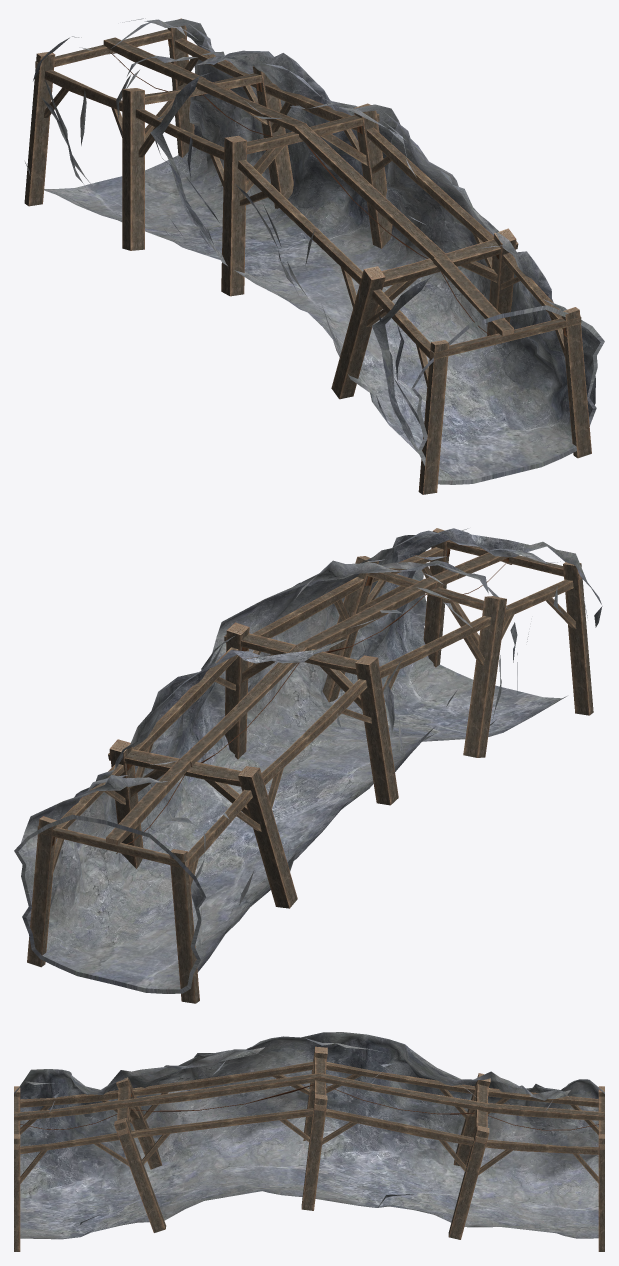
The model's file is mine_tnl_straight_24.glb.
The picture shows the model from 3 angles, top to bottom: view 1: azimuth 30°, elevation 25°; view 2: azimuth 150°, elevation 25°; view 3: azimuth 270°, elevation 25°; orthographic projection. The views are drawn at different scales.
Parts seen in each view (by area): view 1: mine_tnl_straight_24_LOD0; view 2: mine_tnl_straight_24_LOD0; view 3: mine_tnl_straight_24_LOD0.
Part boxes in pixels (x1=…): mine_tnl_straight_24_LOD0: x1=24, y1=18, x2=604, y2=494; mine_tnl_straight_24_LOD0: x1=14, y1=528, x2=602, y2=1003; mine_tnl_straight_24_LOD0: x1=14, y1=1032, x2=604, y2=1251.
Size of the model in its own units: 6.73 by 7.8 by 24.
3 materials, 3 textured.
